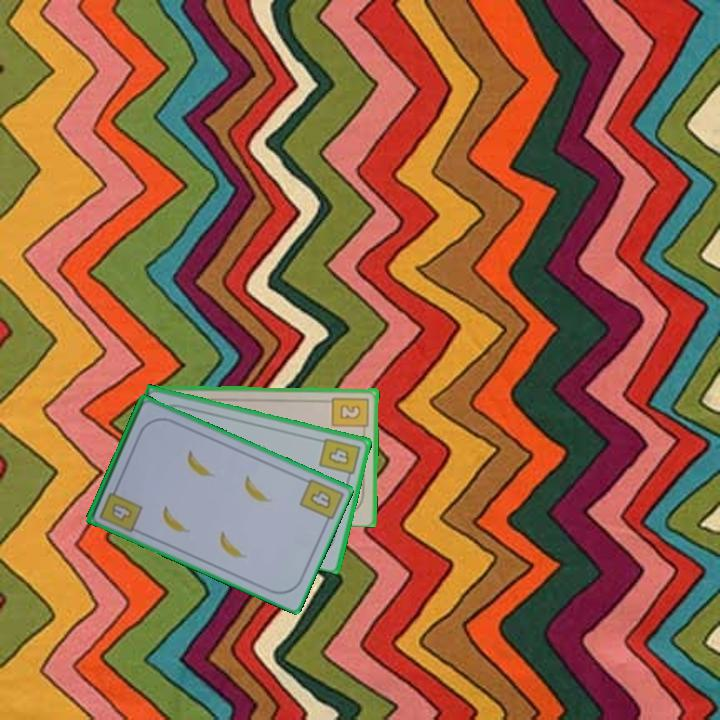2b: (329, 393, 372, 436)
4b: (96, 481, 145, 535), (315, 434, 363, 483), (307, 486, 335, 512)
